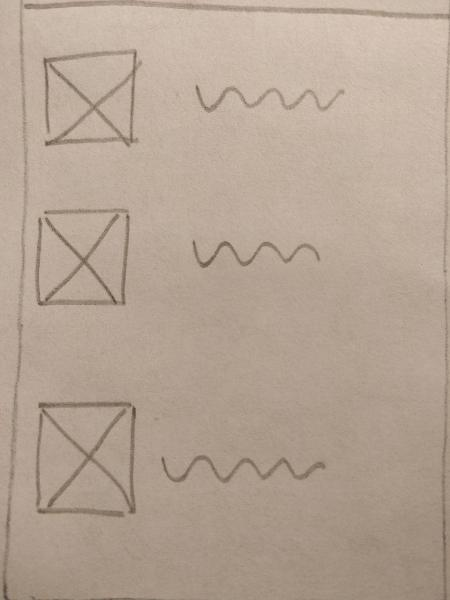image: (28, 394, 142, 518), (35, 46, 143, 153), (27, 204, 135, 311)
text: (159, 441, 331, 493), (184, 75, 353, 124), (175, 224, 344, 273)
